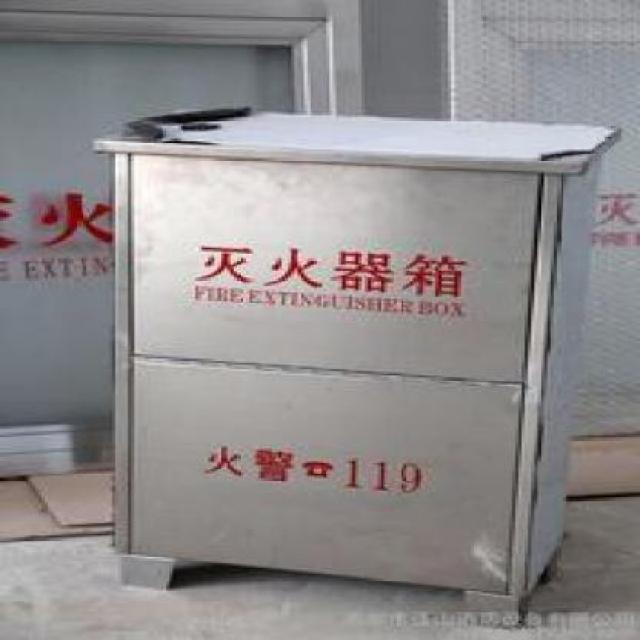firehydrant: (78, 100, 631, 637)
